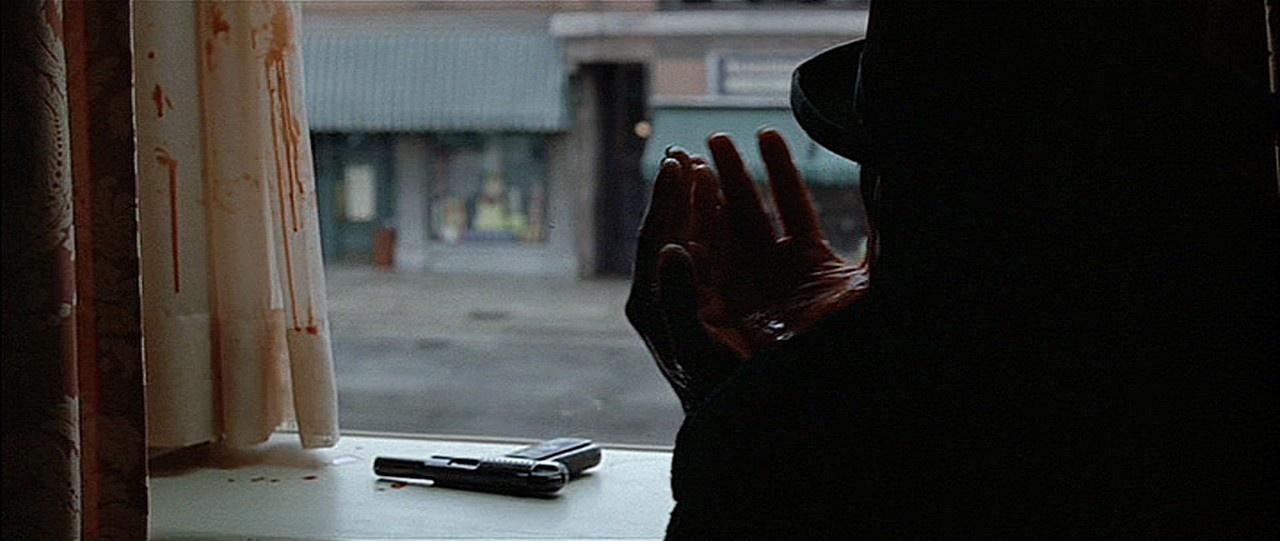gun: (358, 411, 618, 516)
